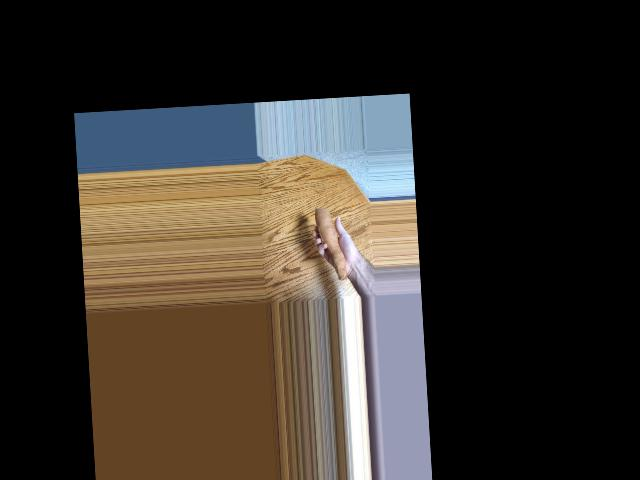sweet_potato: (311, 205, 347, 289)
